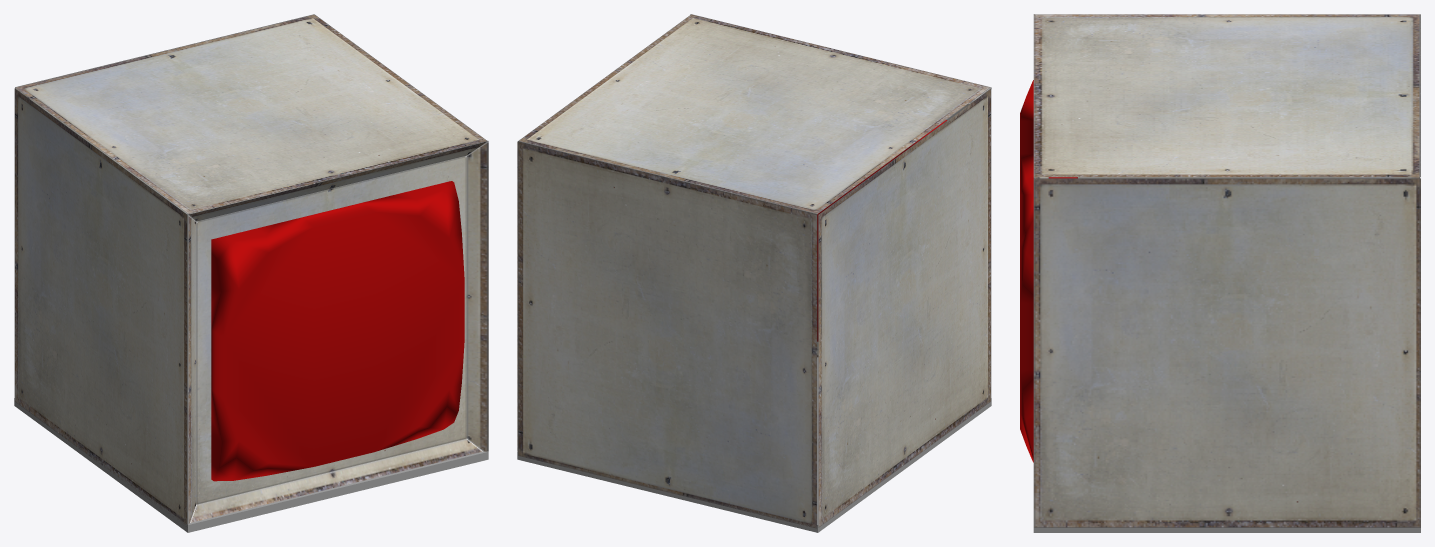
Rendered from BlockDropper_Empty.fbx.
3 views of the same model, side by side, from view 1: azimuth 30°, elevation 25°; view 2: azimuth 150°, elevation 25°; view 3: azimuth 270°, elevation 25° (orthographic). The views are drawn at different scales.
Visible parts, largest first — view 1: polySurface1; view 2: polySurface1; view 3: polySurface1.
Boxes of the visible parts, x1,y1,x2,y2 form: polySurface1: [14, 14, 488, 532]; polySurface1: [517, 14, 991, 532]; polySurface1: [1020, 14, 1420, 532].
Bounding box in the file's own units: 12 × 12.15 × 12.42.
3 materials, 1 textured.
